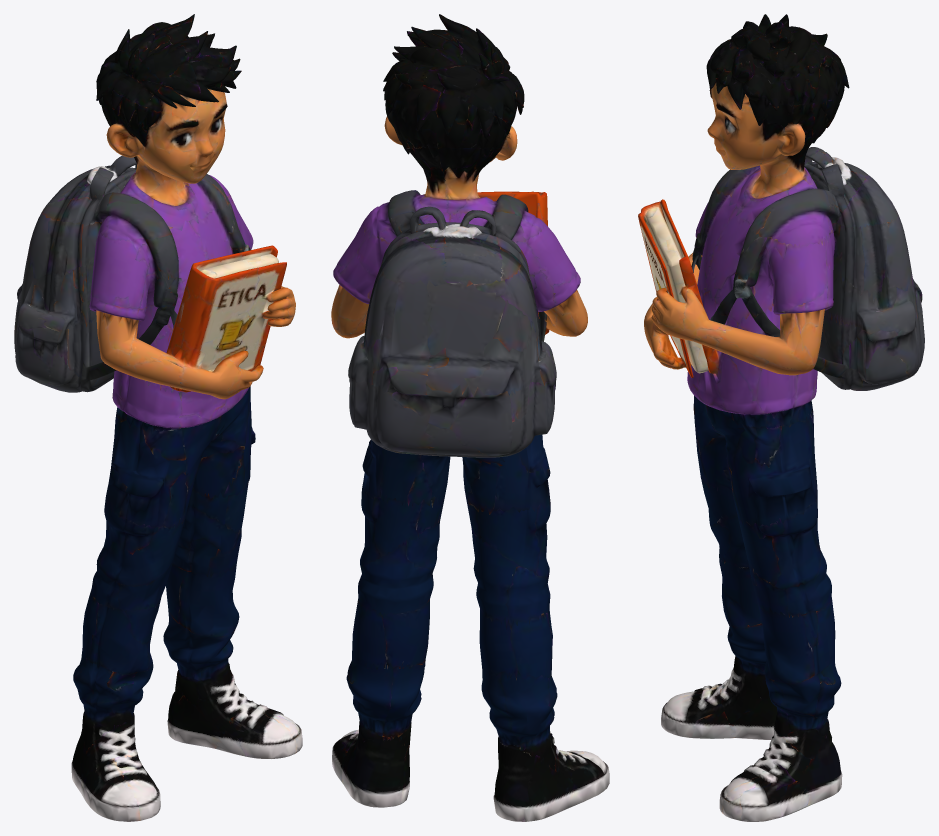
3 views of the same model, side by side, from view 1: azimuth 30°, elevation 25°; view 2: azimuth 150°, elevation 25°; view 3: azimuth 270°, elevation 25° (orthographic). The views are drawn at different scales.
Parts seen in each view (by area): view 1: geometry_0; view 2: geometry_0; view 3: geometry_0.
Boxes of the visible parts, bbox=[...] form: geometry_0: bbox=[14, 14, 302, 821]; geometry_0: bbox=[331, 14, 609, 821]; geometry_0: bbox=[638, 14, 924, 821].
Bounding box in the file's own units: 0.4375 × 1.27 × 0.4431.
1 material, 1 textured.
